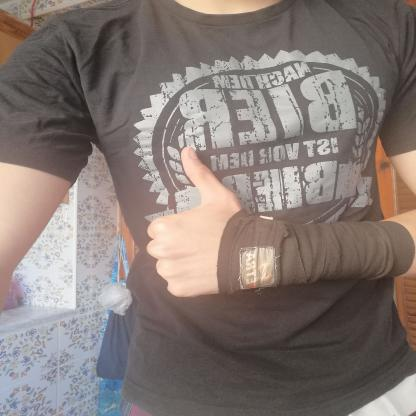ALIF: (112, 140, 280, 309)
